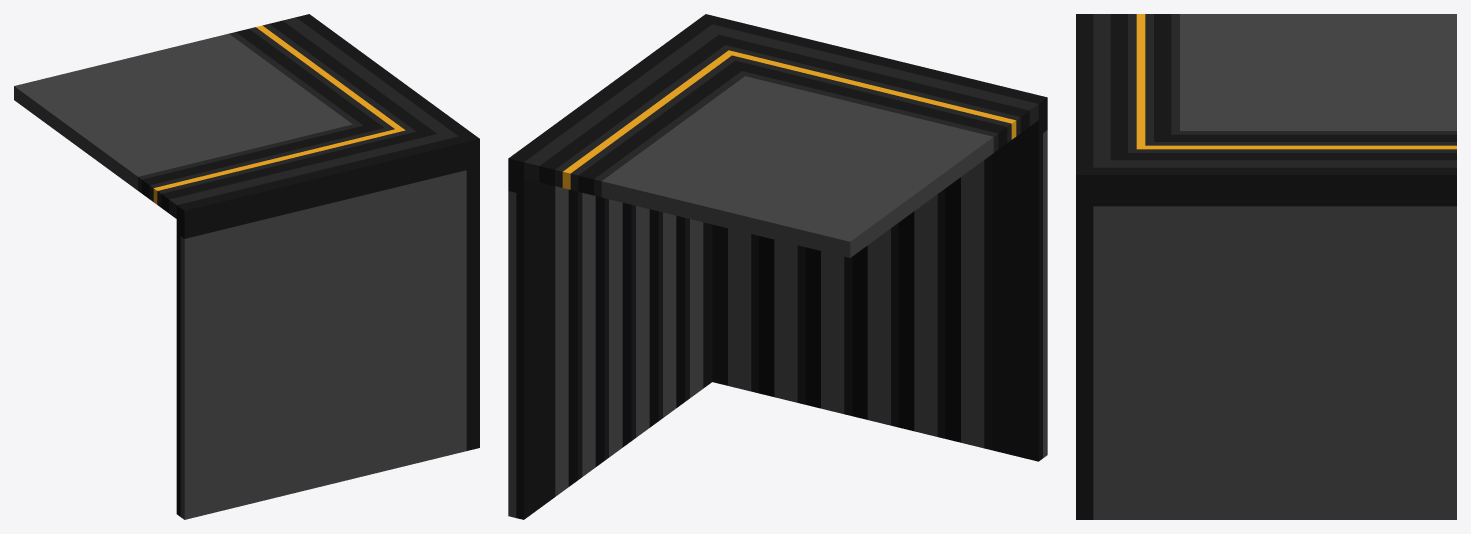
File: mesh_hanger_wall_grid_corner_top.obj
The picture shows the model from 3 angles, left to right: view 1: azimuth 30°, elevation 25°; view 2: azimuth 150°, elevation 25°; view 3: azimuth 270°, elevation 25°; orthographic projection. The views are drawn at different scales.
Bounding box in the file's own units: 4.4 × 4.4 × 4.4.
Materials: 1 (1 with a texture image).
